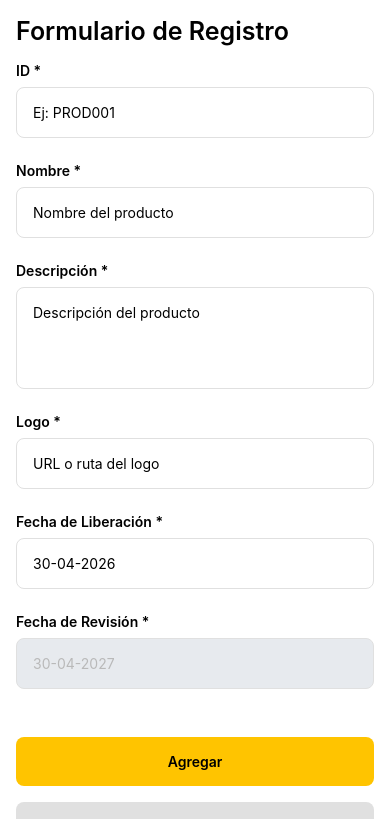
Test case: AddProductScreen › validación del formulario › debe mostrar error cuando ID está vacío
The image size is (390, 819).
Click the text "Agregar" at (195,762), box [168,753,222,770]
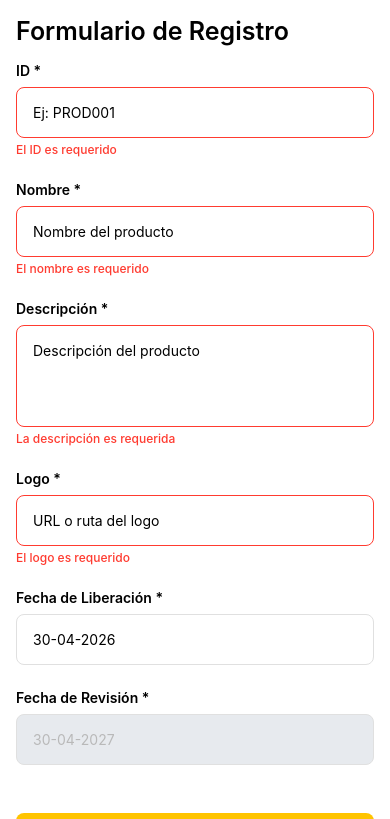
Expected: the text "El ID es requerido" is shown, [16,142,117,157]
